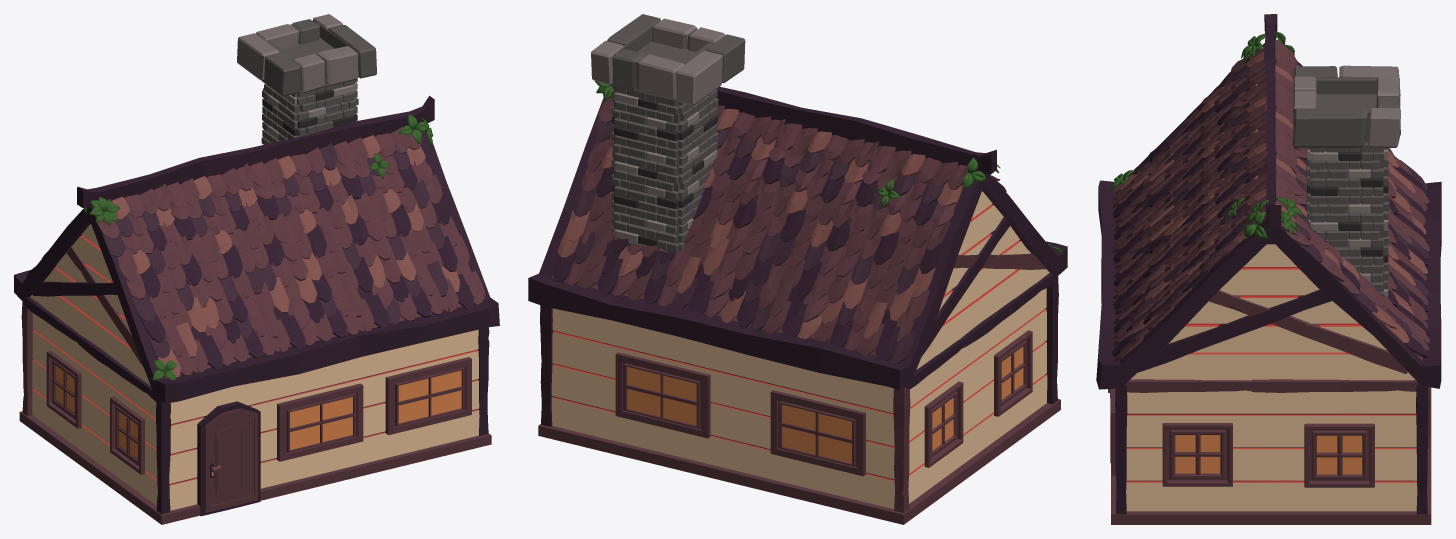
The model's file is casa-madeira9.fbx.
3 views of the same model, side by side, from view 1: azimuth 30°, elevation 25°; view 2: azimuth 150°, elevation 25°; view 3: azimuth 270°, elevation 25° (orthographic). The views are drawn at different scales.
Parts seen in each view (by area): view 1: Cube.018, Cube.035; view 2: Cube.018; view 3: Cube.018.
Part boxes in pixels (bbox=[...]): Cube.018: bbox=[14, 14, 499, 524]; Cube.035: bbox=[204, 408, 257, 512]; Cube.018: bbox=[528, 14, 1067, 524]; Cube.018: bbox=[1096, 14, 1441, 524].
Size of the model in its own units: 521 by 488 by 390.
